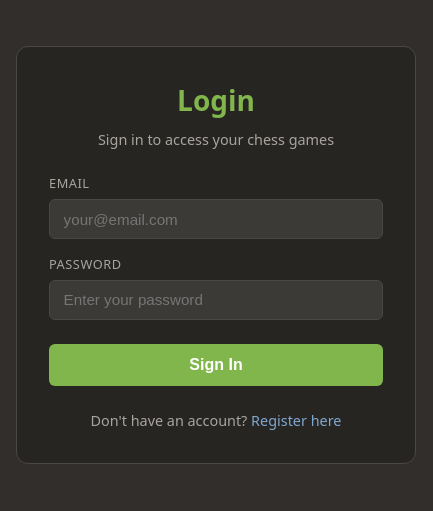
it: LoginPage validation › shows error when password is empty
The image size is (433, 511).
Type "test@test.com" into the field labelled "Email". click: (216, 219)
box: [49,199,383,239]
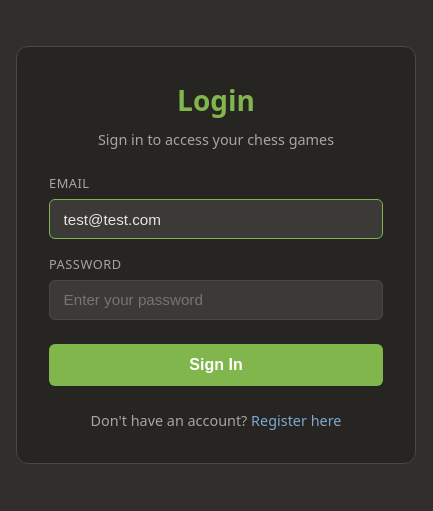
Click the button "Sign In". click: (216, 365)
box: [49,344,383,386]
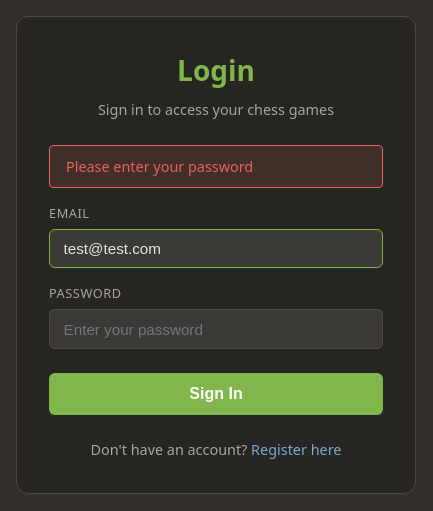
Expected: the text "Please enter your password" is shown, [49,145,383,188]
